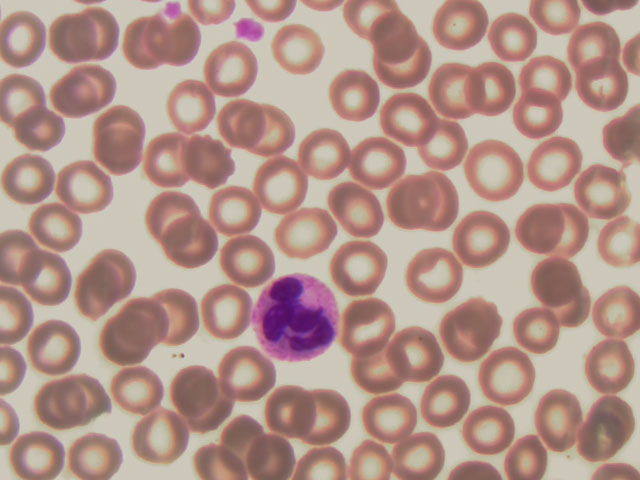Platelets: (233, 14, 264, 41), (162, 1, 189, 19)
RBC: (44, 12, 97, 68), (1, 10, 47, 70), (1, 69, 47, 129), (18, 103, 70, 154), (63, 163, 115, 214), (28, 196, 80, 247), (21, 250, 73, 301), (70, 272, 122, 323), (88, 249, 140, 300), (117, 293, 169, 344), (95, 317, 147, 368), (28, 321, 80, 372), (30, 383, 82, 434), (60, 373, 112, 424), (111, 365, 163, 416), (136, 417, 188, 468), (71, 429, 123, 480), (11, 429, 63, 480), (170, 360, 222, 411), (224, 349, 276, 400), (202, 286, 254, 337), (151, 289, 203, 340), (218, 236, 270, 287), (209, 187, 261, 238), (162, 218, 214, 269), (142, 191, 194, 242), (139, 134, 191, 185), (183, 138, 235, 189), (211, 99, 263, 150), (239, 102, 291, 153), (165, 83, 217, 134), (203, 43, 255, 94), (154, 19, 206, 70), (118, 17, 170, 68), (275, 24, 327, 75), (329, 69, 381, 120), (300, 128, 352, 179), (254, 157, 306, 208), (283, 206, 335, 257), (331, 183, 383, 234), (357, 136, 409, 187), (378, 179, 430, 230), (422, 173, 474, 224), (421, 120, 473, 171), (381, 94, 433, 145), (379, 40, 431, 91), (369, 9, 421, 60), (425, 64, 477, 115), (470, 61, 522, 112), (469, 149, 521, 200), (456, 211, 508, 262), (409, 252, 461, 303), (333, 241, 385, 292), (343, 297, 395, 348), (345, 343, 397, 394), (394, 330, 446, 381), (417, 374, 469, 425), (370, 392, 422, 443), (306, 392, 358, 443), (265, 386, 317, 437), (222, 404, 274, 455), (386, 429, 438, 480), (463, 402, 515, 453), (483, 348, 535, 399), (459, 292, 511, 343), (438, 309, 490, 360), (511, 310, 563, 361), (545, 285, 597, 336), (526, 254, 578, 305), (545, 204, 597, 255), (512, 200, 564, 251), (532, 140, 584, 191), (509, 88, 561, 139), (519, 58, 571, 109), (487, 12, 539, 63), (436, 2, 488, 53), (570, 24, 622, 75), (578, 59, 630, 110), (588, 219, 640, 270), (570, 165, 622, 216), (588, 289, 640, 340), (588, 340, 640, 391), (588, 389, 640, 440), (568, 419, 620, 470), (530, 394, 582, 445), (502, 429, 554, 480), (248, 429, 300, 480), (92, 123, 144, 174), (50, 66, 102, 117), (1, 153, 52, 204)
WBC: (249, 272, 340, 359)
